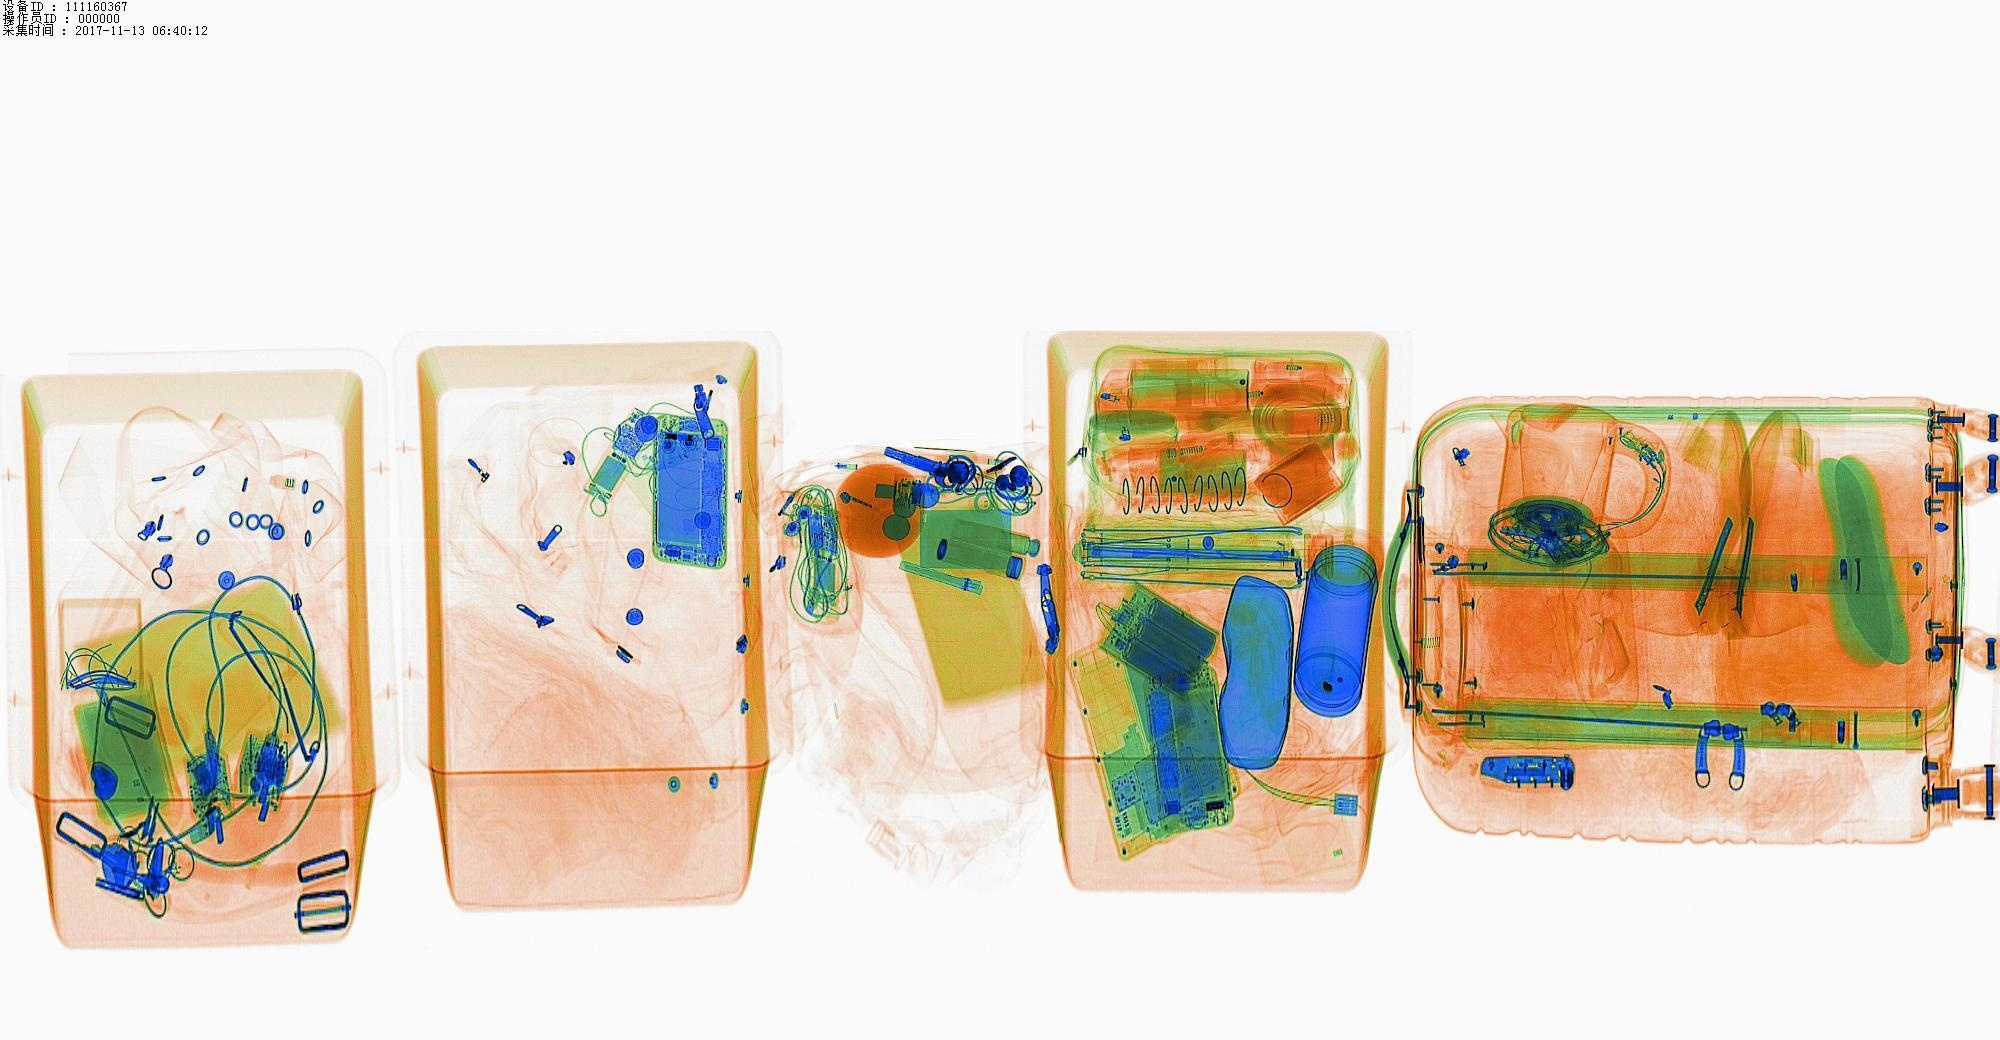core: (1095, 594, 1217, 695)
